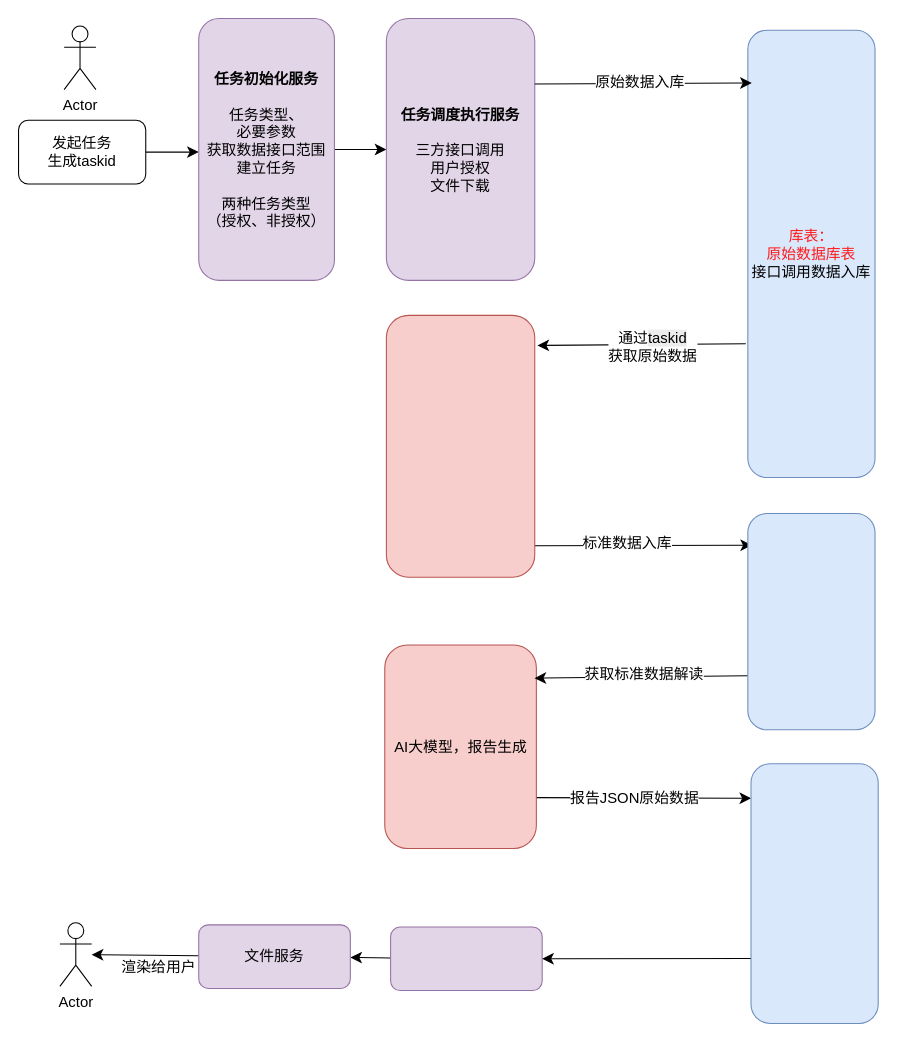
The diagram is 897 pixels wide and 1042 high, and some of its shapes have lost their labels. The centre of each missing label's shape, as x and y in pixels:
AI大模型数据清洗服务: the point at 460,445
库表： 报告结构化数据: the point at 814,893
库表： 结构 化数据入库: the point at 811,621
报告生成服务: the point at 466,958
